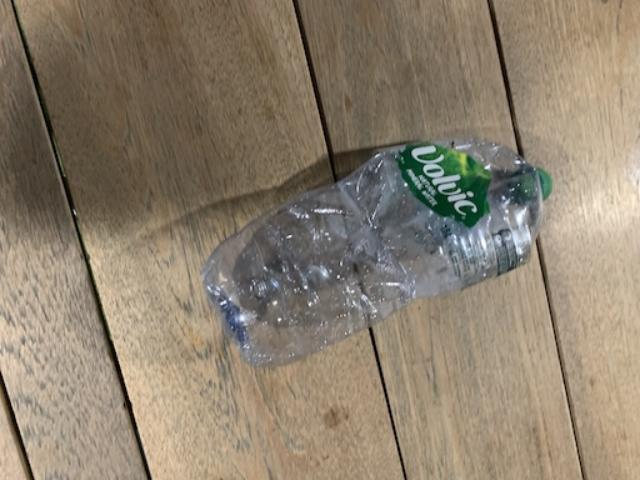plastic: (201, 138, 549, 364)
